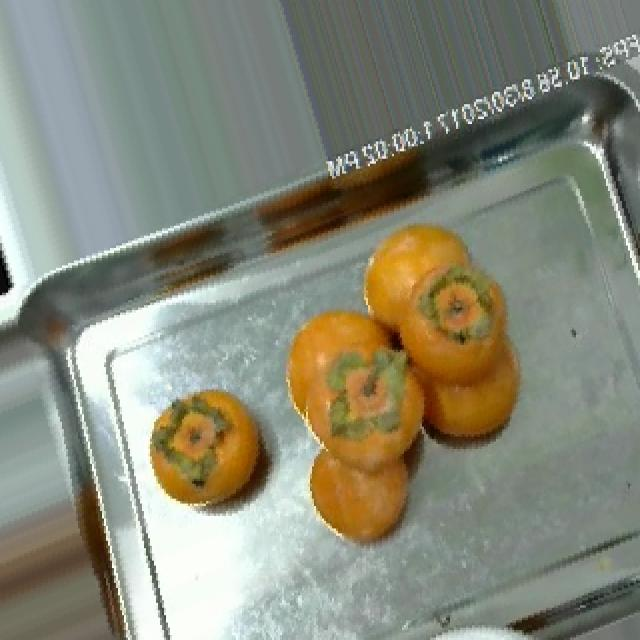Fruit: (268, 287, 440, 483), (136, 370, 290, 536), (292, 412, 442, 566), (0, 214, 24, 318)
